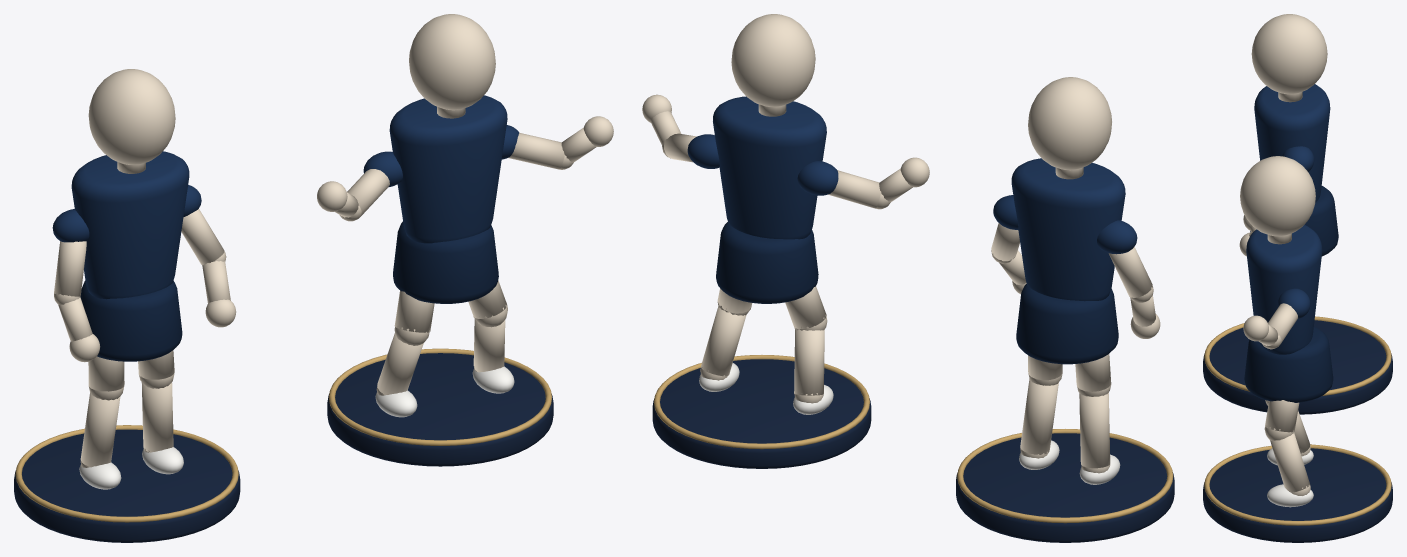
Rendered from figurines.glb.
3 renders of one model, left to right at view 1: azimuth 30°, elevation 25°; view 2: azimuth 150°, elevation 25°; view 3: azimuth 270°, elevation 25°, orthographic. The views are drawn at different scales.
Parts seen in each view (by area): view 1: Figurine_Offense, Figurine_Defense; view 2: Figurine_Defense, Figurine_Offense; view 3: Figurine_Defense, Figurine_Offense.
Boxes of the visible parts, x1,y1,x2,y2 form: Figurine_Offense: [14, 69, 240, 542]; Figurine_Defense: [317, 14, 613, 466]; Figurine_Defense: [642, 14, 929, 468]; Figurine_Offense: [956, 77, 1174, 542]; Figurine_Defense: [1203, 156, 1392, 542]; Figurine_Offense: [1203, 14, 1392, 414].
Size of the model in its own units: 7.12 by 5.22 by 2.5.
